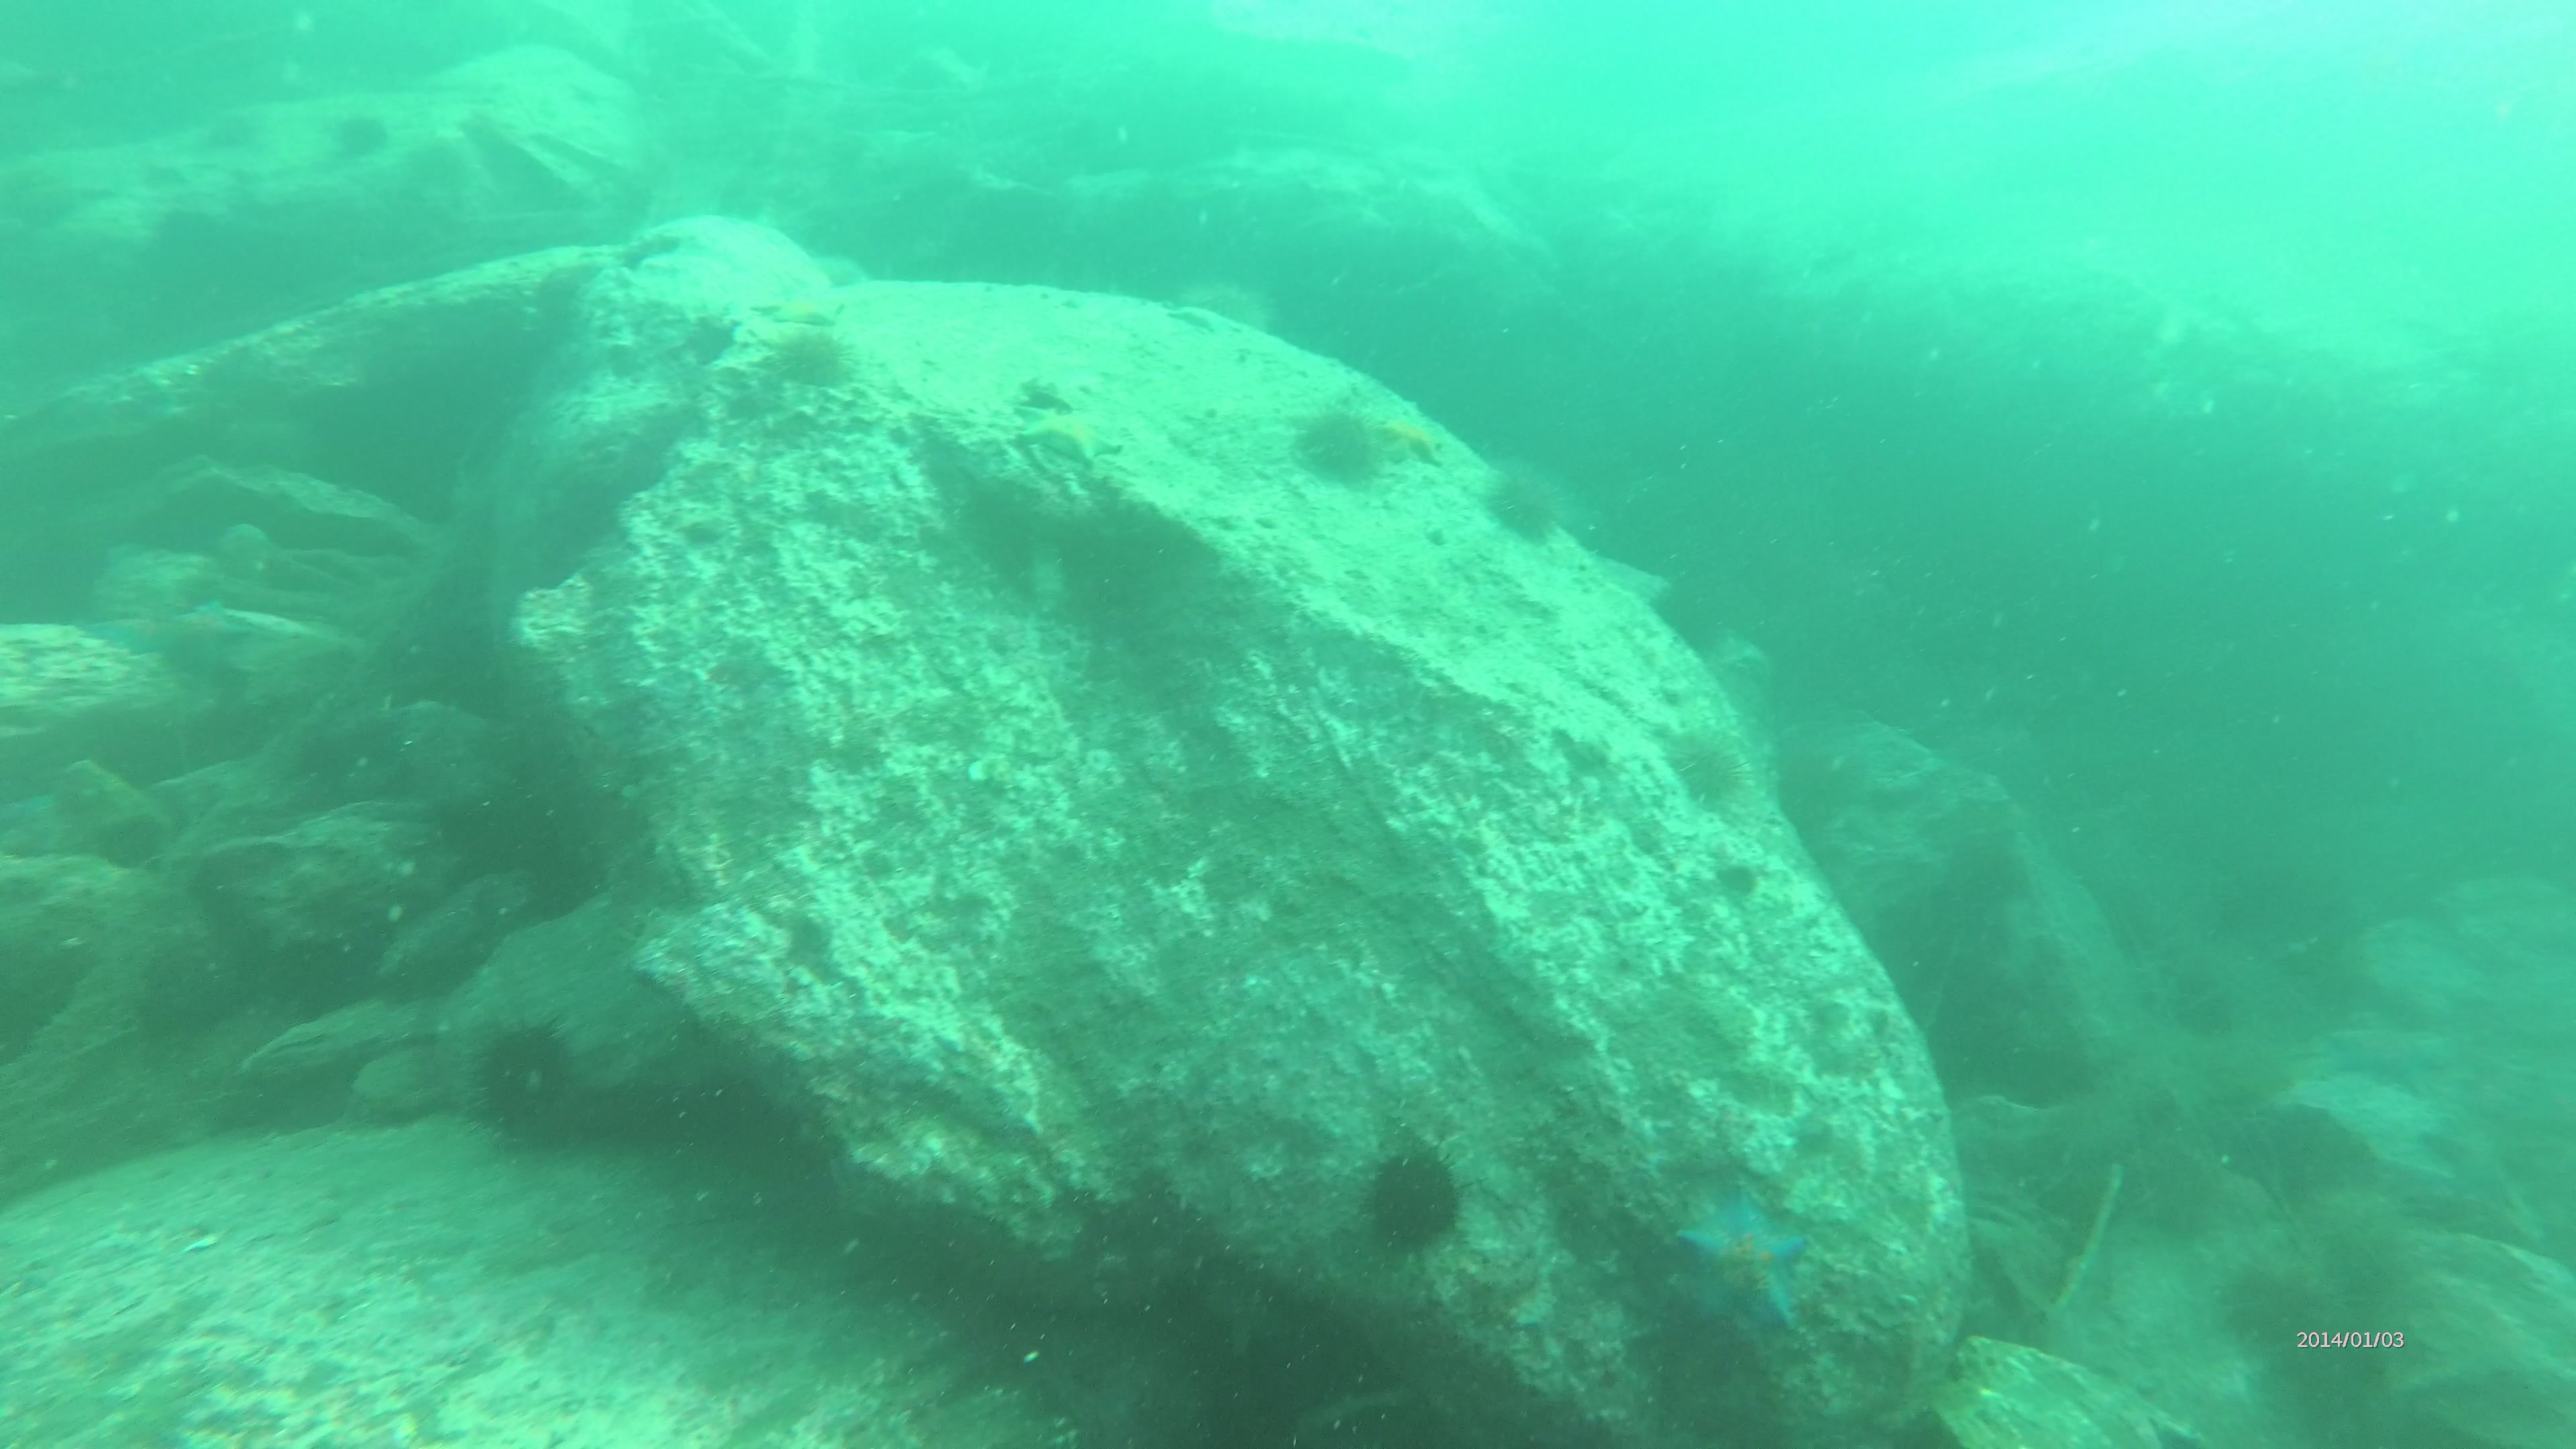echinus: (471, 1019, 587, 1159), (1359, 1136, 1468, 1256), (1283, 402, 1401, 494), (1665, 718, 1760, 819), (1483, 464, 1566, 550), (768, 320, 849, 391)
starfish: (1665, 1185, 1817, 1343)
